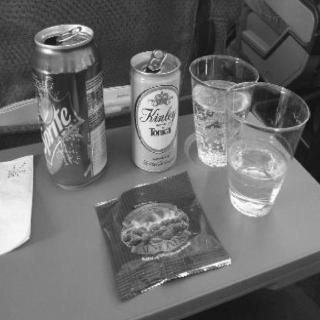alumunium_can: (31, 24, 108, 188), (128, 49, 181, 173)
